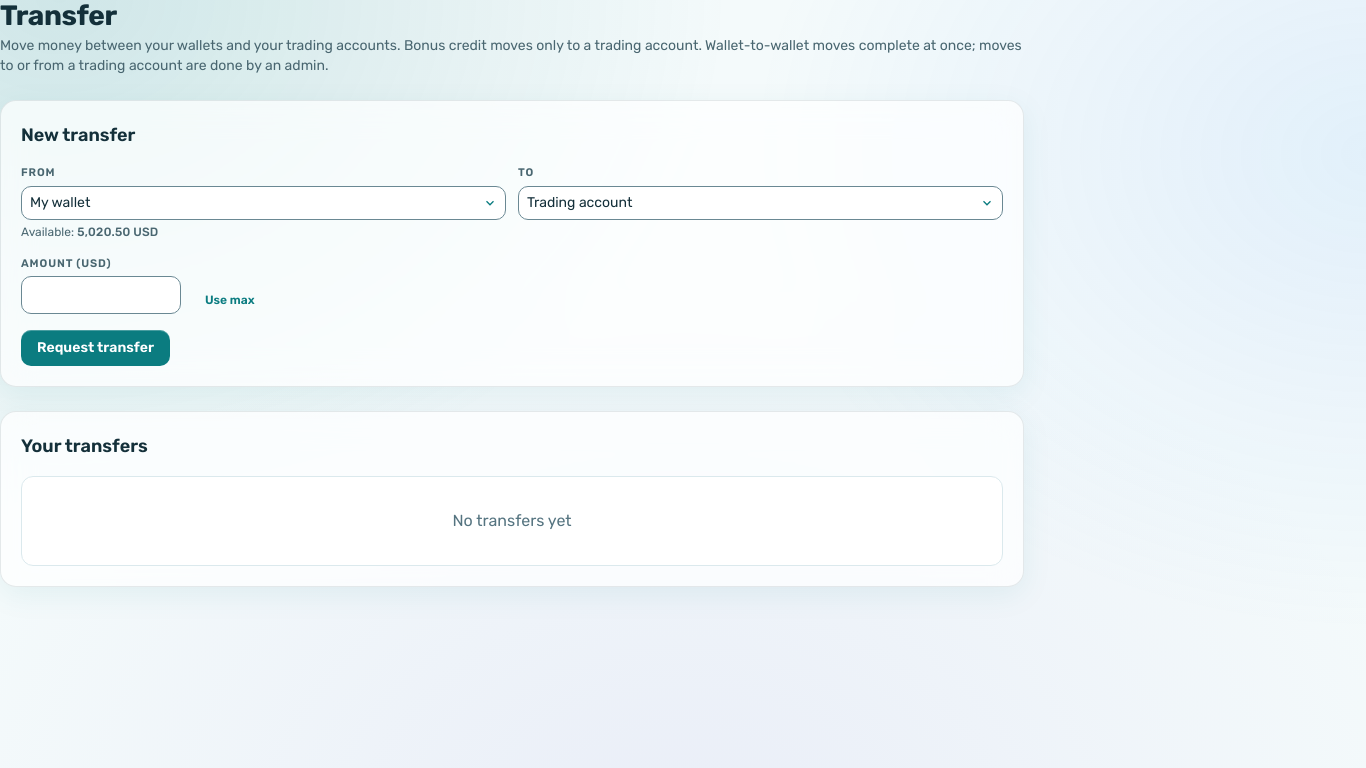
Test case: moves wallet money to the trading account after the MPIN, with the exact payload
Expected: the heading "Transfer" is shown, [0,0,117,32]
Expected: the dropdown labelled "From" shows "My wallet", [21,186,506,220]
Type "1000" into the field named "Amount in USD" at (101, 295), box [21,276,181,314]
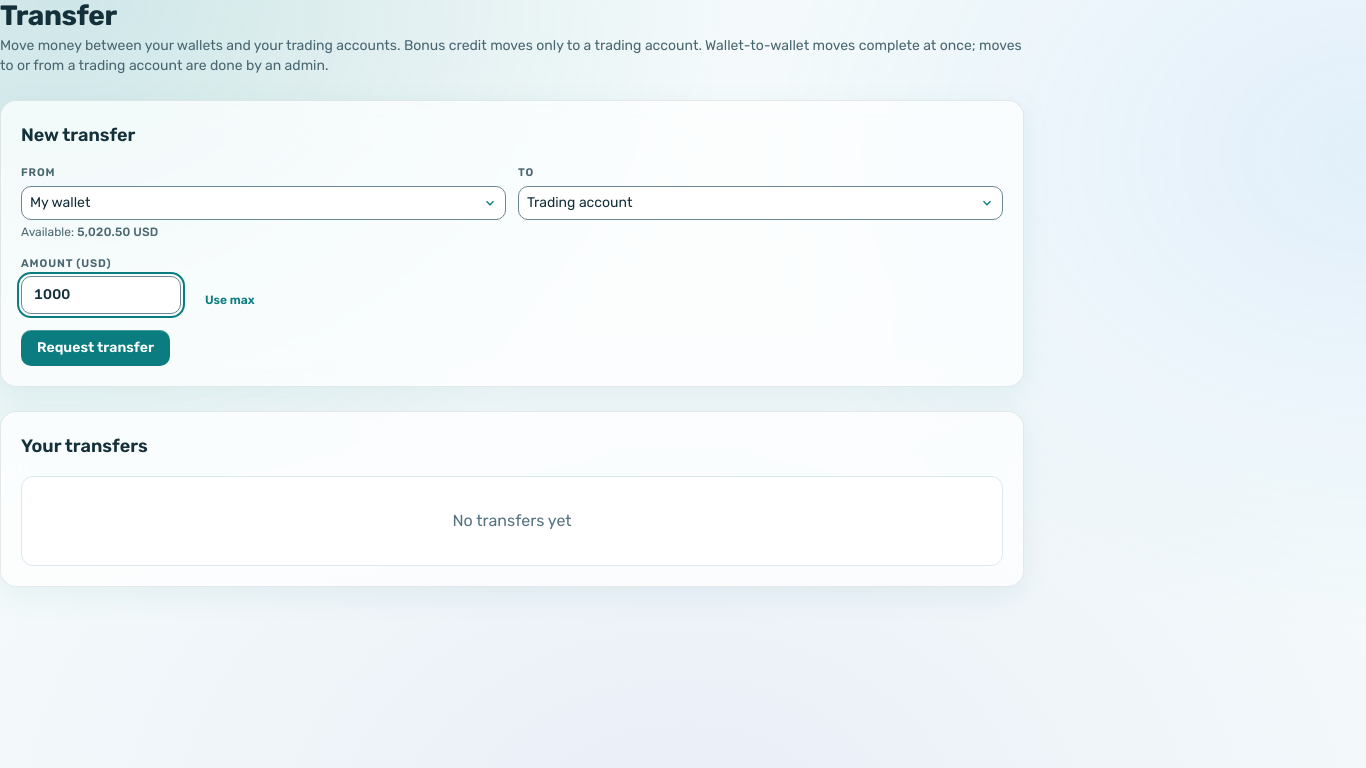
Click the button "Request transfer" at (96, 348), box [21,330,170,366]
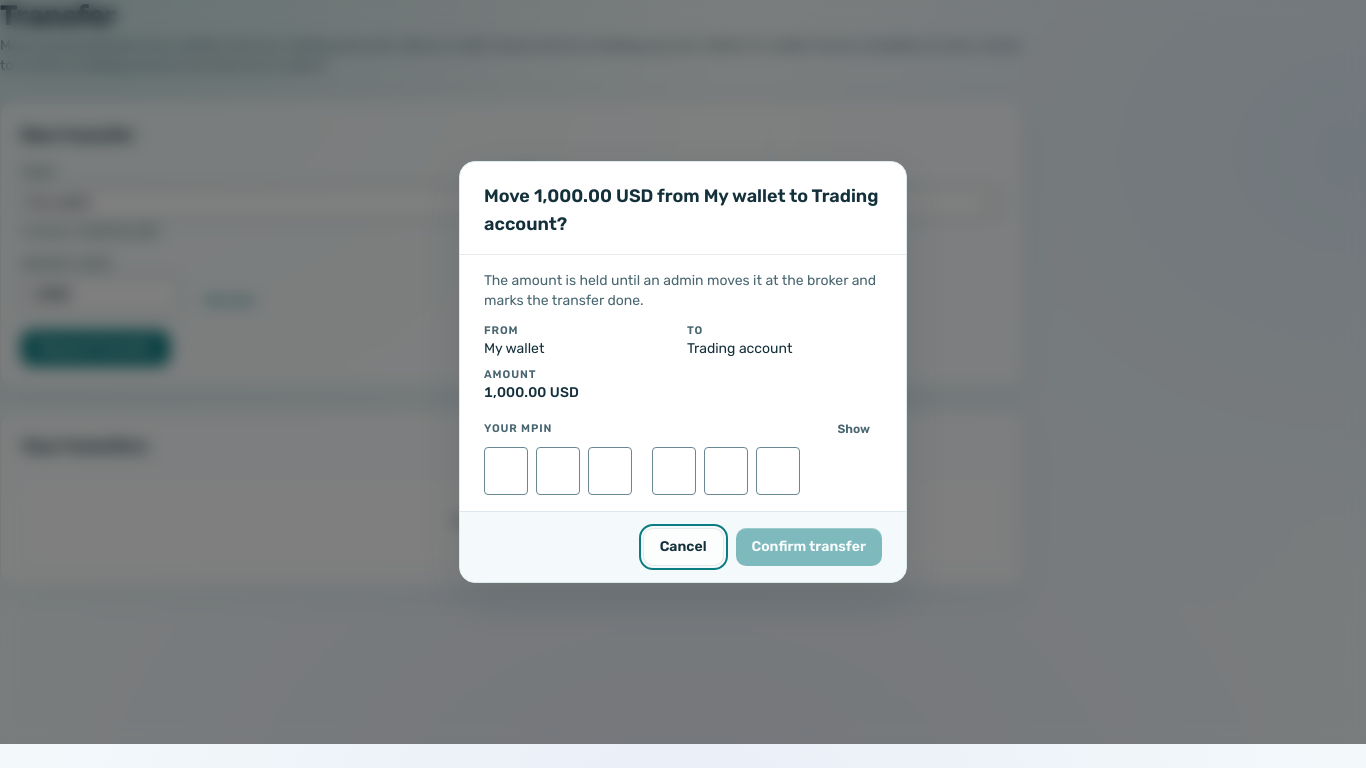
Click the password field named "Your MPIN digit 1 of 6" at (506, 471), box [484,447,528,495]
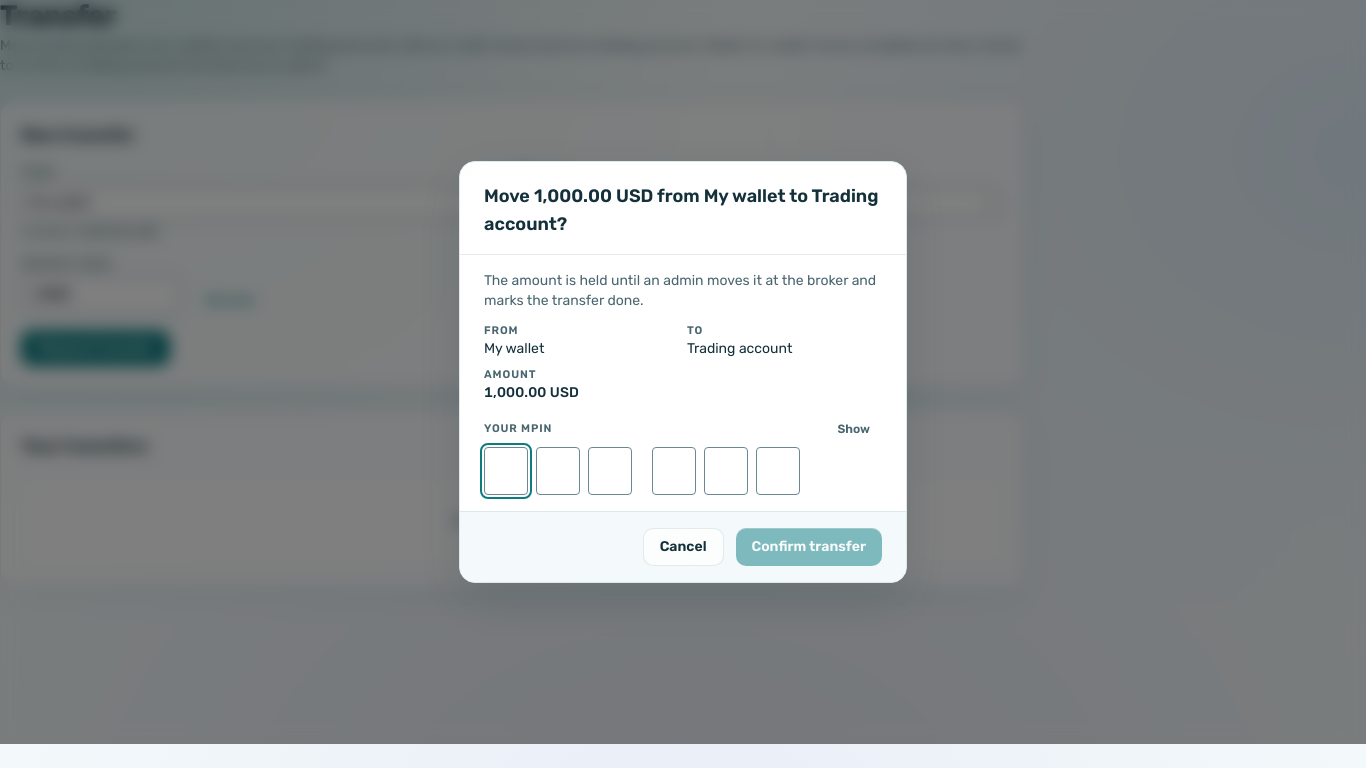
Type keys "123456"
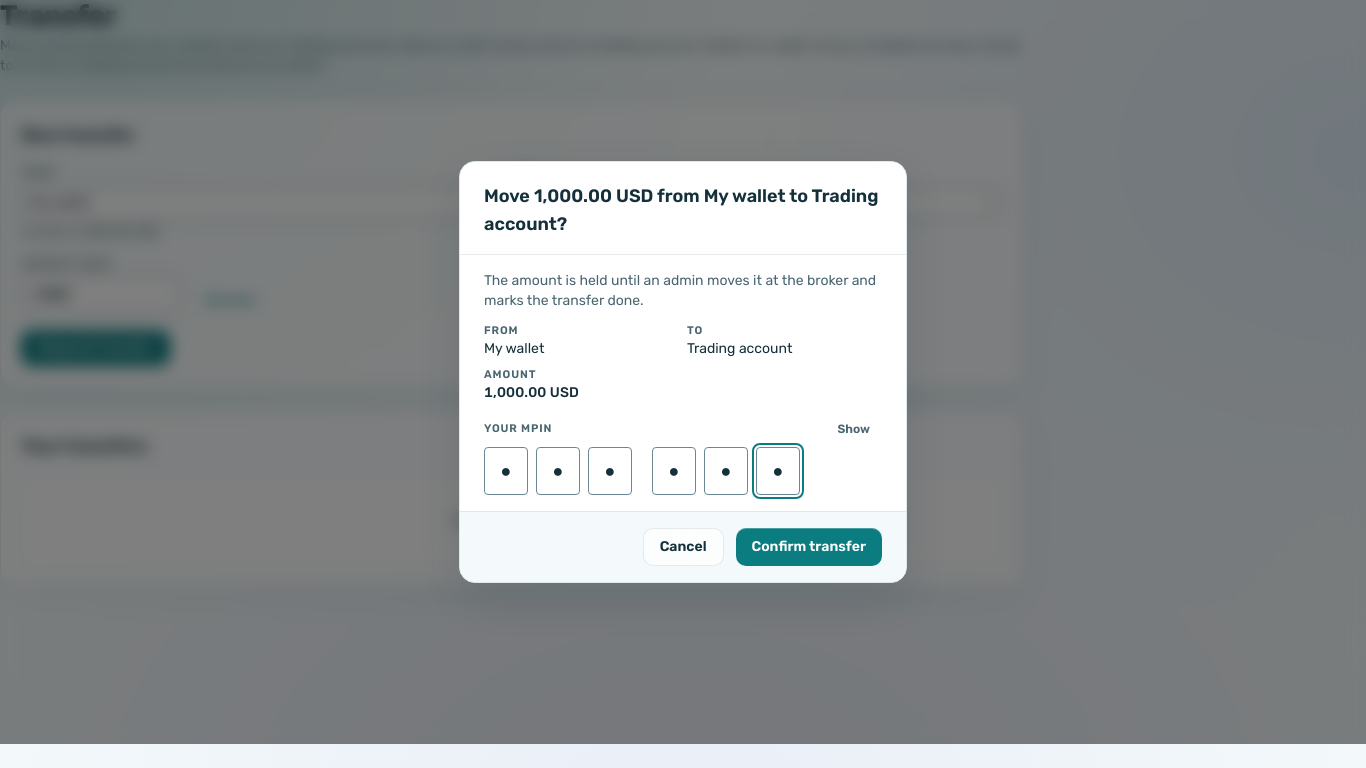
Click the button "Confirm transfer" at (809, 547), box [736,528,882,566]
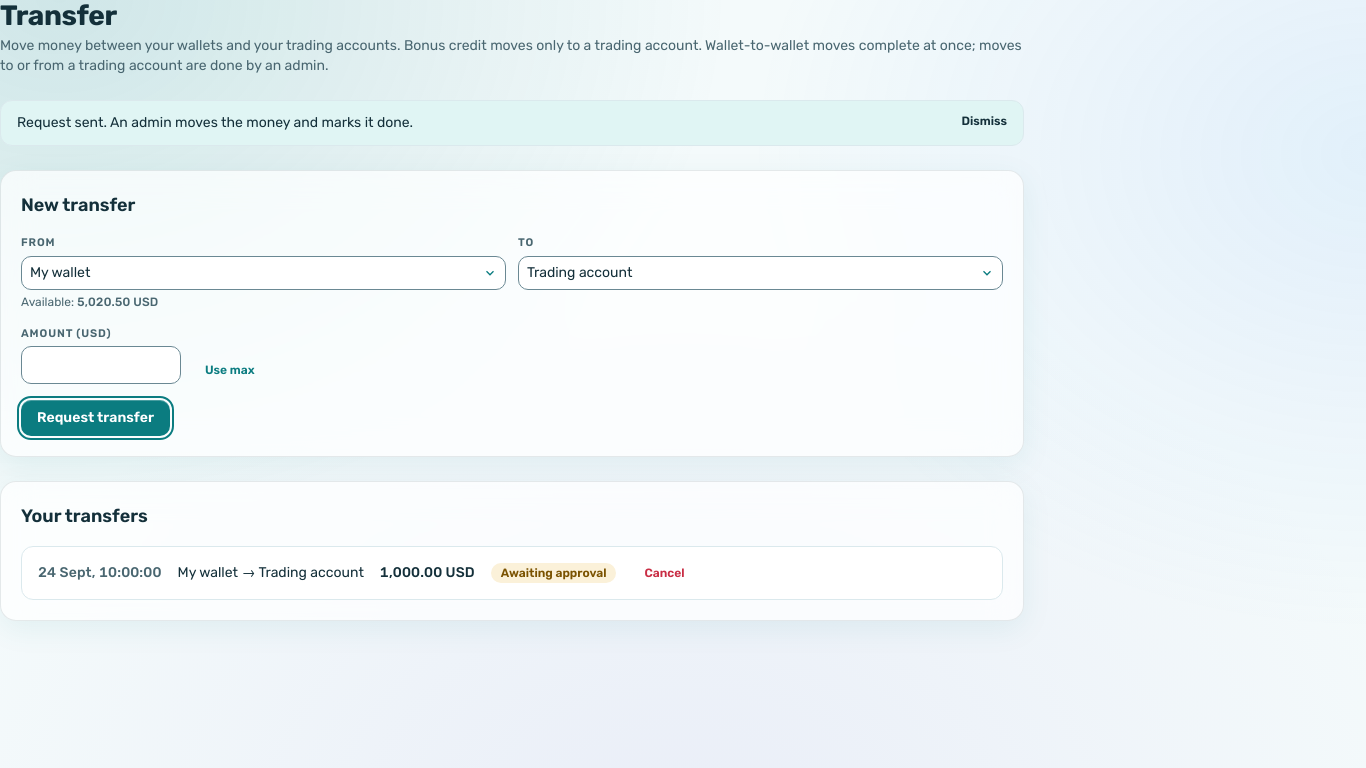
Now the dialog is gone
Now the text "Request sent. An admin moves the money and marks it done." is shown, box [17,113,413,133]
Now the text "Awaiting approval" is shown, box [491,563,616,583]
